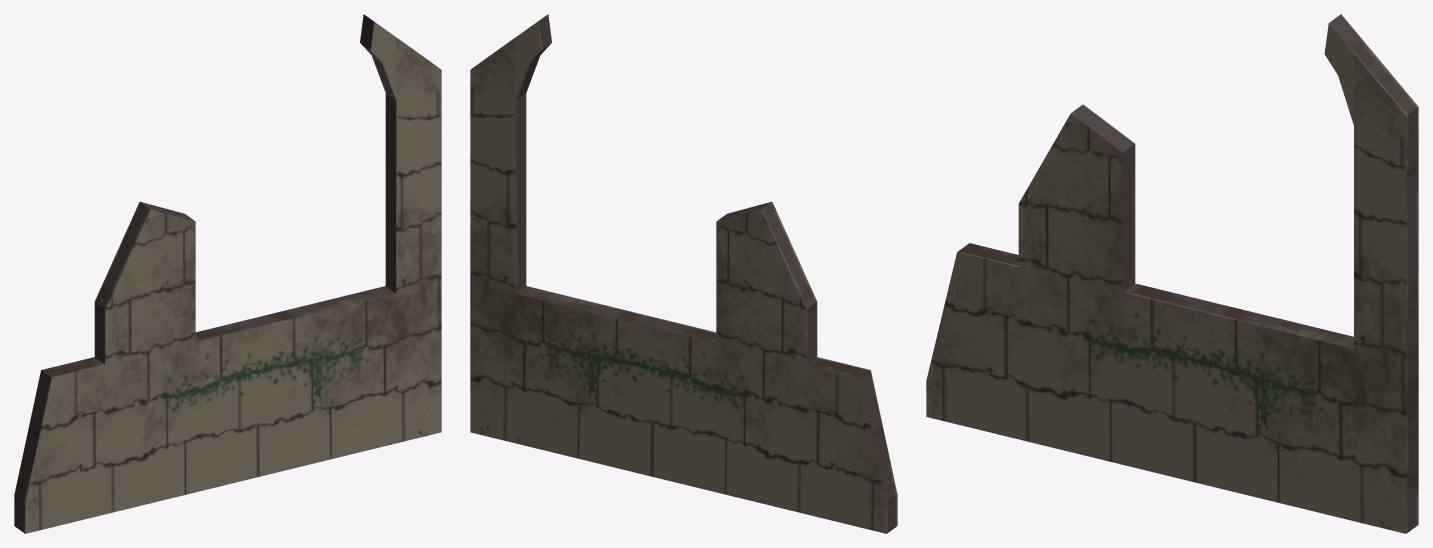
The model's file is mur III_2.FBX.
3 renders of one model, left to right at view 1: azimuth 30°, elevation 25°; view 2: azimuth 150°, elevation 25°; view 3: azimuth 330°, elevation 25°, orthographic. The views are drawn at different scales.
Parts seen in each view (by area): view 1: III_3; view 2: III_3; view 3: III_3.
Part boxes in pixels (x1=…): III_3: x1=14, y1=14, x2=441, y2=533; III_3: x1=470, y1=14, x2=897, y2=533; III_3: x1=926, y1=14, x2=1418, y2=533.
Bounding box in the file's own units: 21.58 × 21.14 × 0.9687.
